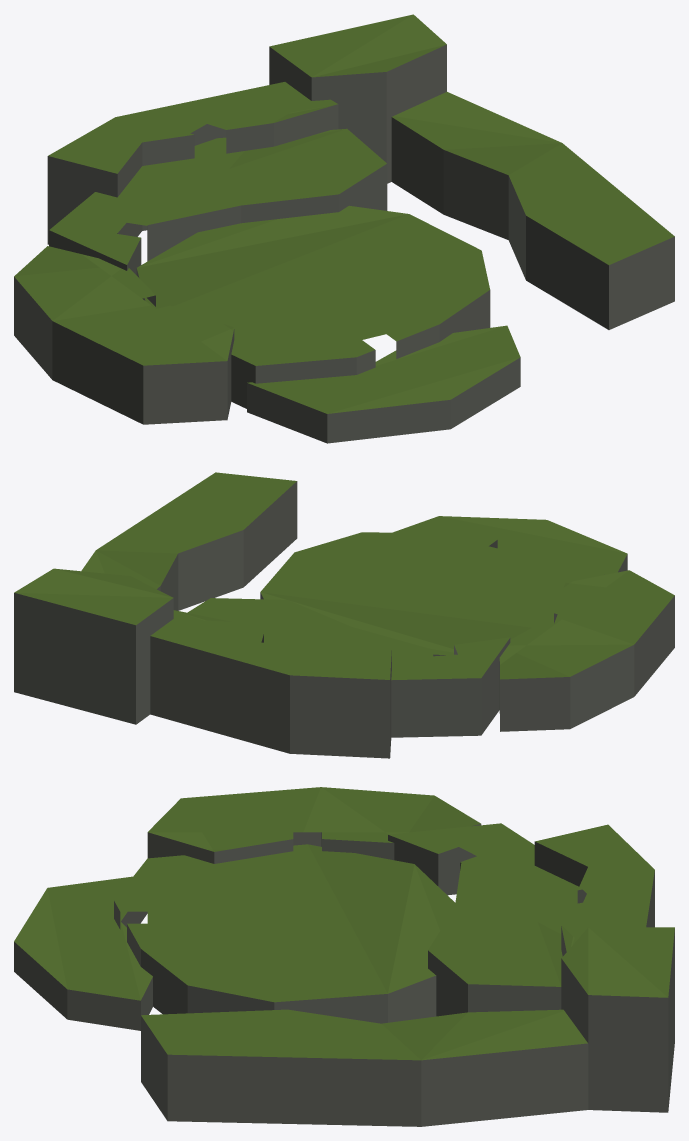
The model's file is terrain.glb.
3 renders of one model, top to bottom at view 1: azimuth 30°, elevation 25°; view 2: azimuth 150°, elevation 25°; view 3: azimuth 270°, elevation 25°, orthographic. The views are drawn at different scales.
Parts seen in each view (by area): view 1: VillageCore_Grass, EastBank_Cliff, NorthTerrace_Grass, EastBank_Grass, WesternApproach_Grass, WesternApproach_Cliff, SouthEntry_Grass, MineRidge_Grass, WaterfallCliff_Cliff, MineRidge_Cliff, SouthEntry_Cliff, NorthTerrace_Cliff (+2 smaller); view 2: VillageCore_Grass, MineRidge_Cliff, WaterfallCliff_Cliff, WesternApproach_Grass, EastBank_Grass, NorthTerrace_Grass, WesternApproach_Cliff, EastBank_Cliff, MineRidge_Grass, NorthTerrace_Cliff, SouthEntry_Grass, WaterfallCliff_Grass; view 3: VillageCore_Grass, EastBank_Cliff, EastBank_Grass, NorthTerrace_Grass, WesternApproach_Grass, WaterfallCliff_Cliff, SouthEntry_Grass, MineRidge_Grass, VillageCore_Cliff, WaterfallCliff_Grass, NorthTerrace_Cliff, SouthEntry_Cliff (+2 smaller).
Part boxes in pixels (x1,y1,x2,y2): VillageCore_Grass: [137, 205, 489, 365]; EastBank_Cliff: [391, 117, 674, 329]; NorthTerrace_Grass: [49, 128, 386, 264]; EastBank_Grass: [392, 92, 674, 264]; WesternApproach_Grass: [14, 246, 234, 365]; WesternApproach_Cliff: [14, 277, 234, 424]; SouthEntry_Grass: [247, 325, 520, 413]; MineRidge_Grass: [48, 82, 337, 173]; WaterfallCliff_Cliff: [269, 44, 446, 183]; MineRidge_Cliff: [47, 104, 338, 244]; SouthEntry_Cliff: [247, 357, 520, 443]; NorthTerrace_Cliff: [49, 164, 387, 274]; VillageCore_Grass: [260, 532, 603, 655]; MineRidge_Cliff: [150, 634, 391, 758]; WaterfallCliff_Cliff: [14, 593, 173, 724]; WesternApproach_Grass: [499, 570, 674, 679]; EastBank_Grass: [81, 472, 296, 588]; NorthTerrace_Grass: [187, 598, 509, 680]; WesternApproach_Cliff: [499, 596, 674, 731]; EastBank_Cliff: [157, 481, 297, 610]; MineRidge_Grass: [150, 610, 391, 679]; NorthTerrace_Cliff: [391, 638, 510, 737]; SouthEntry_Grass: [393, 516, 627, 574]; WaterfallCliff_Grass: [14, 568, 173, 625]; VillageCore_Grass: [114, 844, 455, 1002]; EastBank_Cliff: [141, 1016, 588, 1126]; EastBank_Grass: [141, 1009, 587, 1060]; NorthTerrace_Grass: [388, 823, 593, 986]; WesternApproach_Grass: [148, 787, 480, 851]; WaterfallCliff_Cliff: [561, 929, 674, 1112]; SouthEntry_Grass: [14, 876, 152, 1000]; MineRidge_Grass: [535, 824, 654, 951]; VillageCore_Cliff: [114, 901, 436, 1023]; WaterfallCliff_Grass: [561, 927, 674, 997]; NorthTerrace_Cliff: [388, 835, 561, 1016]; SouthEntry_Cliff: [14, 911, 152, 1030].
Bounding box in the file's own units: 99 × 19 × 99.
